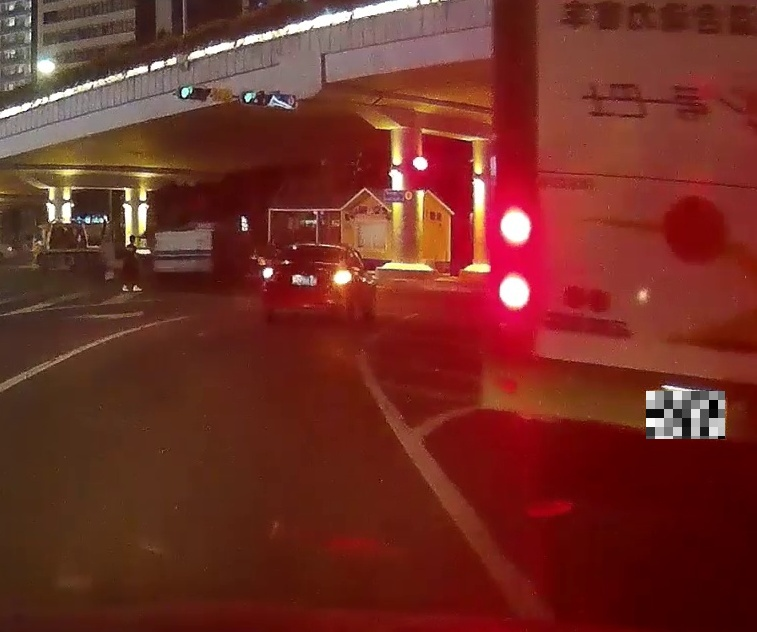L_light: (262, 267, 277, 282)
R_light: (332, 269, 347, 285)
T_light: (303, 246, 318, 250)
night-right: (261, 244, 348, 326)
plate_1: (646, 391, 725, 439)
